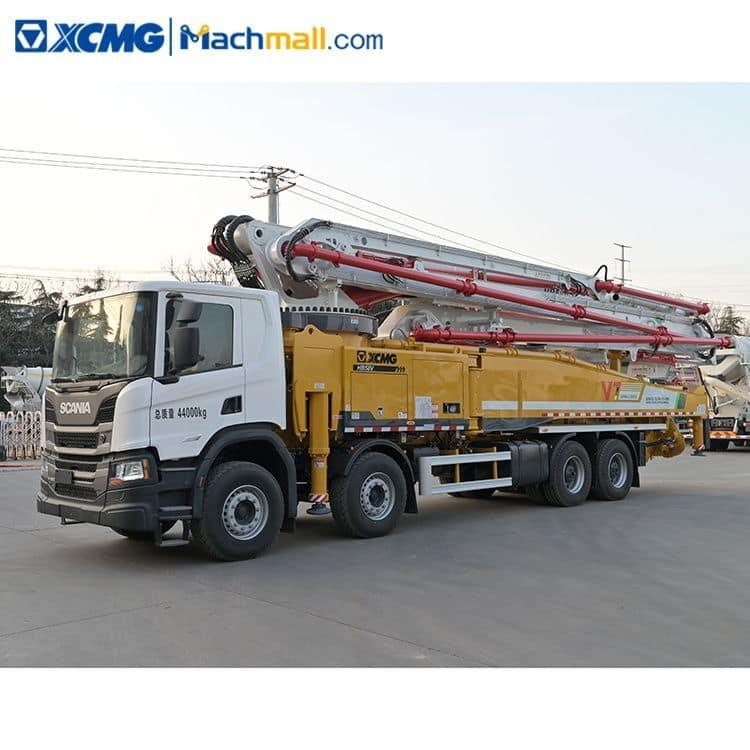truck: (34, 215, 733, 564)
